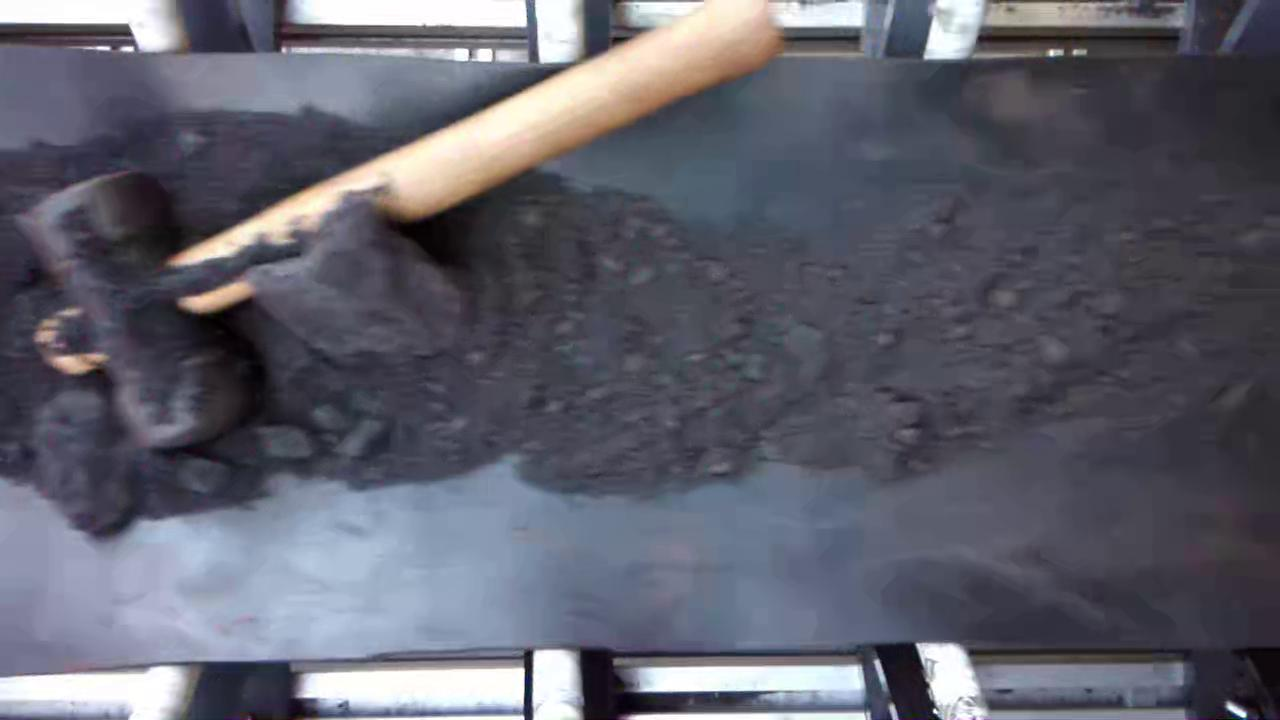conveyor: (3, 53, 1280, 645)
